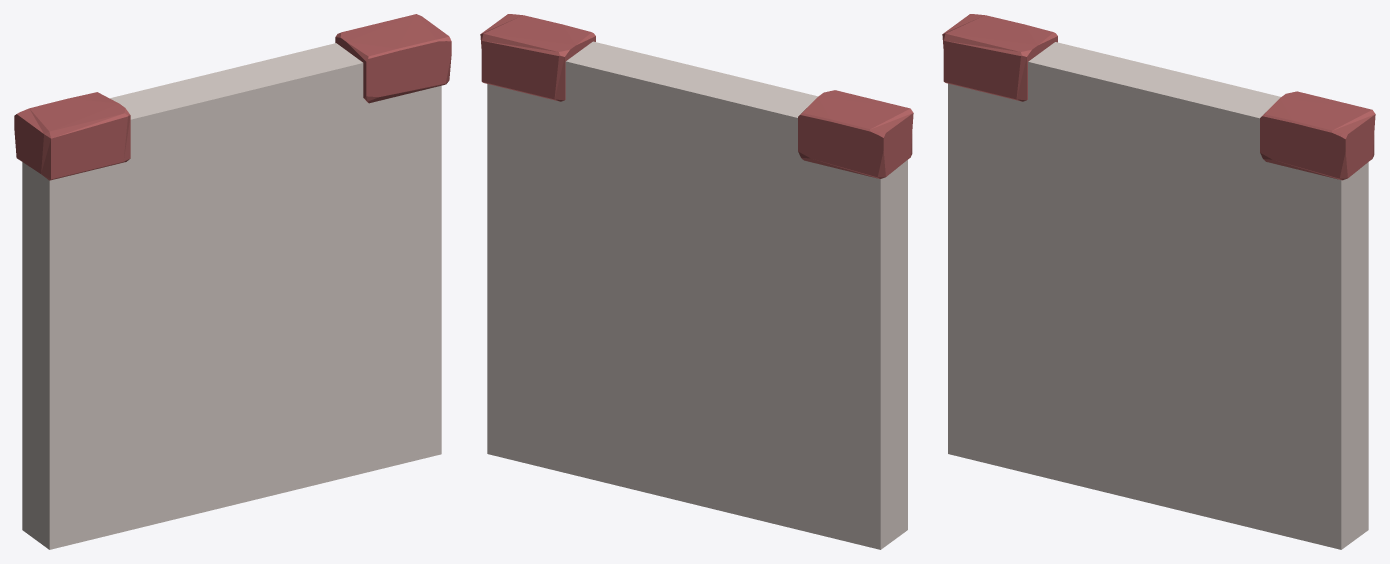
Rendered from PK_Wall_Plain.fbx.
The picture shows the model from 3 angles, left to right: view 1: azimuth 30°, elevation 25°; view 2: azimuth 150°, elevation 25°; view 3: azimuth 330°, elevation 25°; orthographic projection.
Parts seen in each view (by area): view 1: PK_Wall_Plain; view 2: PK_Wall_Plain; view 3: PK_Wall_Plain.
Part boxes in pixels (box(x1,y1,x2,y2)): PK_Wall_Plain: box(14, 14, 451, 549); PK_Wall_Plain: box(480, 14, 913, 549); PK_Wall_Plain: box(942, 14, 1375, 549).
Size of the model in its own units: 206 by 204 by 28.81.
